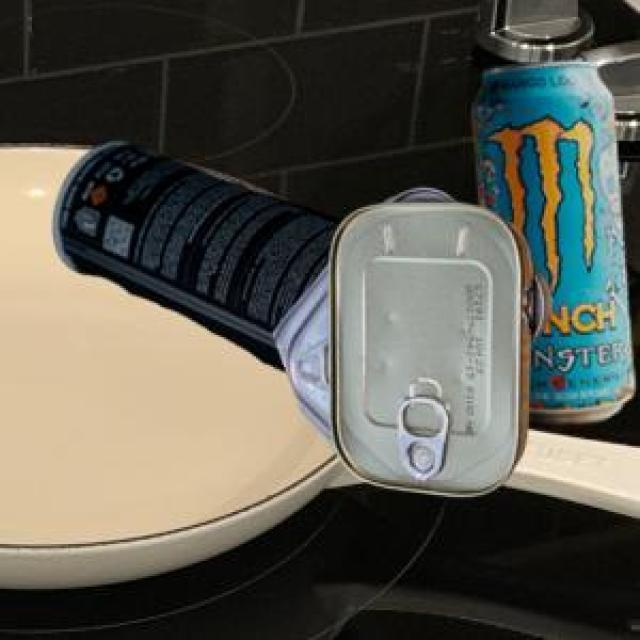Can: (270, 185, 549, 494), (50, 140, 338, 368), (470, 59, 630, 421)
